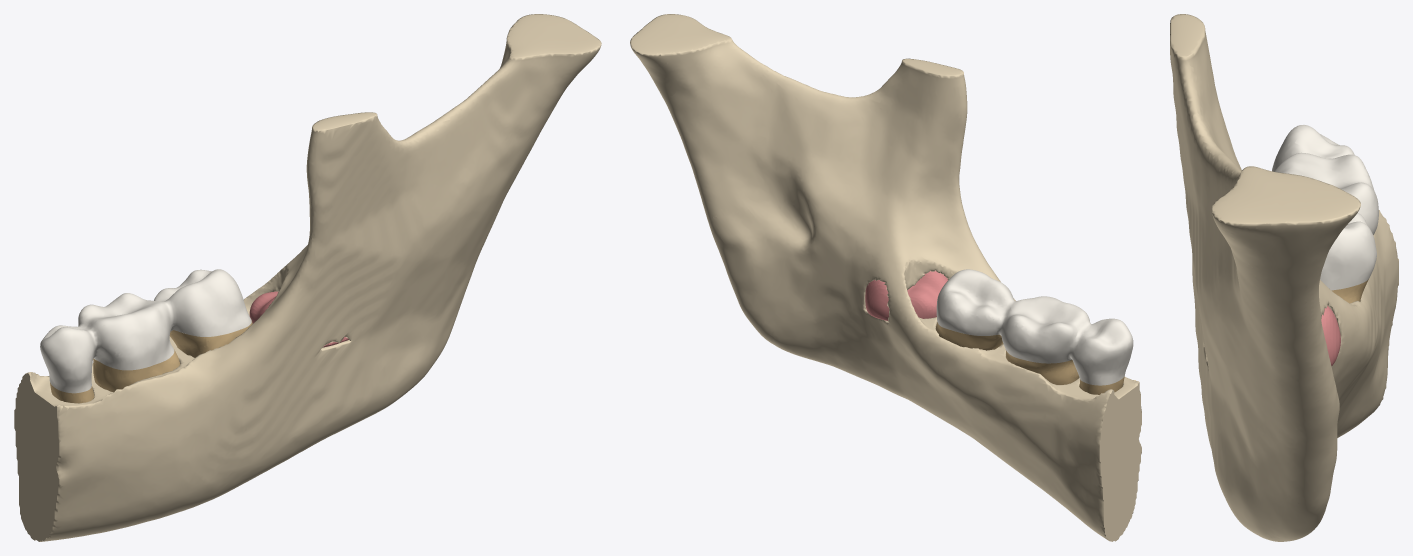
File: normal-whole.glb
3 views of the same model, side by side, from view 1: azimuth 30°, elevation 25°; view 2: azimuth 150°, elevation 25°; view 3: azimuth 270°, elevation 25° (orthographic). The views are drawn at different scales.
Parts seen in each view (by area): view 1: bone, teeth; view 2: bone, teeth, follicle; view 3: bone, teeth, follicle.
Boxes of the visible parts, <box> form: bone: <box>14,14,601,541</box>; teeth: <box>40,269,252,403</box>; bone: <box>630,14,1141,541</box>; teeth: <box>936,269,1133,394</box>; follicle: <box>865,270,947,320</box>; bone: <box>1170,14,1398,541</box>; teeth: <box>1272,125,1378,303</box>; follicle: <box>1321,306,1340,365</box>.
Bounding box in the file's own units: 81.93 × 59.05 × 21.75.
